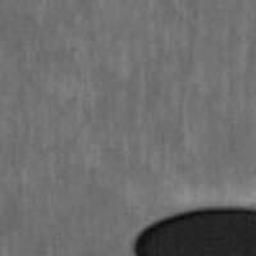Punching: (133, 206, 256, 256)
